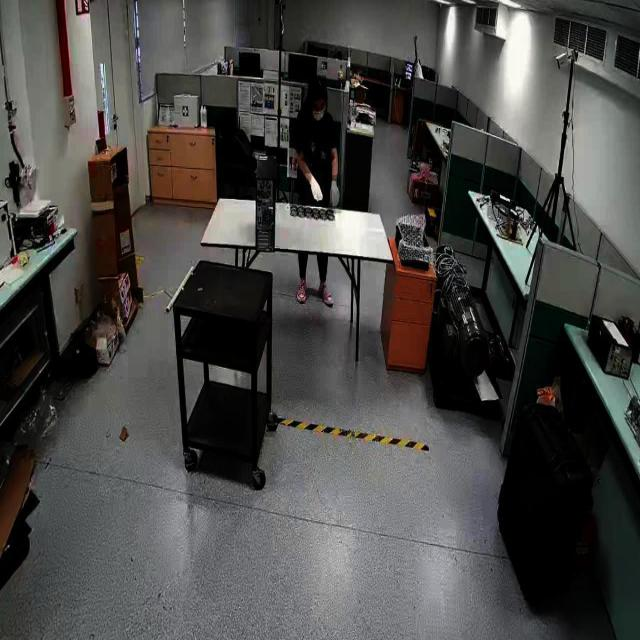face_mask: (309, 99, 328, 129)
hand_glove: (305, 173, 323, 209), (326, 175, 342, 214)
head_nohelmet: (308, 75, 326, 98)
person: (289, 85, 342, 207)
shoes: (316, 280, 336, 314), (296, 274, 306, 306)
